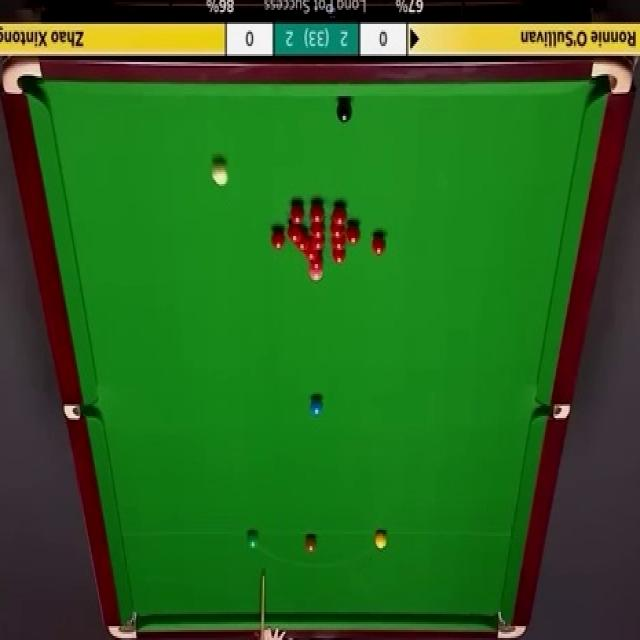black-ball: (336, 102, 354, 125)
blue-ball: (310, 398, 324, 415)
brown-ball: (305, 534, 316, 552)
green-ball: (245, 530, 260, 552)
pink-ball: (308, 262, 324, 277)
red-ball: (345, 221, 360, 246), (332, 204, 348, 227), (371, 234, 387, 256), (287, 222, 302, 244), (291, 201, 304, 224), (310, 204, 325, 223), (296, 234, 310, 254), (271, 228, 284, 249), (332, 233, 346, 252), (306, 244, 320, 262), (331, 220, 344, 238), (332, 246, 345, 263), (311, 221, 323, 239)
white-ball: (212, 160, 228, 189)
yellow-ball: (375, 530, 387, 550)
